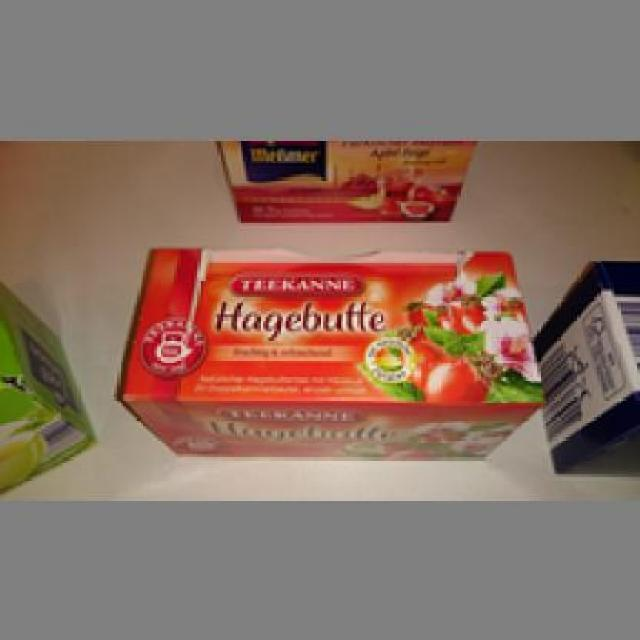Tea: (111, 242, 544, 458), (212, 140, 474, 223)
